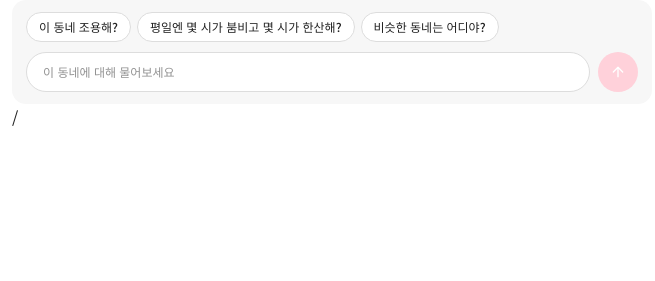
Test: ChatThread › 입력 Enter 로 보내고 비워진다, 질문은 아래로 쌓인다
The width and height of the screenshot is (655, 281).
Step 1. Type "아침에 조용해?" into the field named "이 동네에 물어보기" → (308, 72), box [43, 64, 573, 80]
Then press Enter
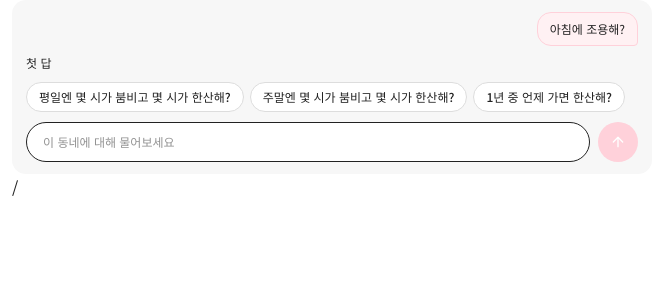
Expected: the text "첫 답" is shown, [26, 54, 52, 71]
Step 2. Type "저녁엔?" into the field named "이 동네에 물어보기" → (308, 142), box [43, 134, 573, 150]
Then press Enter
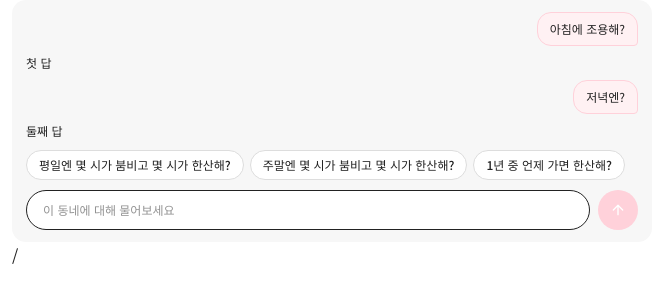
Expected: the text "둘째 답" is shown, [26, 122, 62, 139]
Expected: the element named "물어본 대화" reads "아침에 조용해? 첫 답 저녁엔? 둘째 답", [26, 12, 638, 140]
